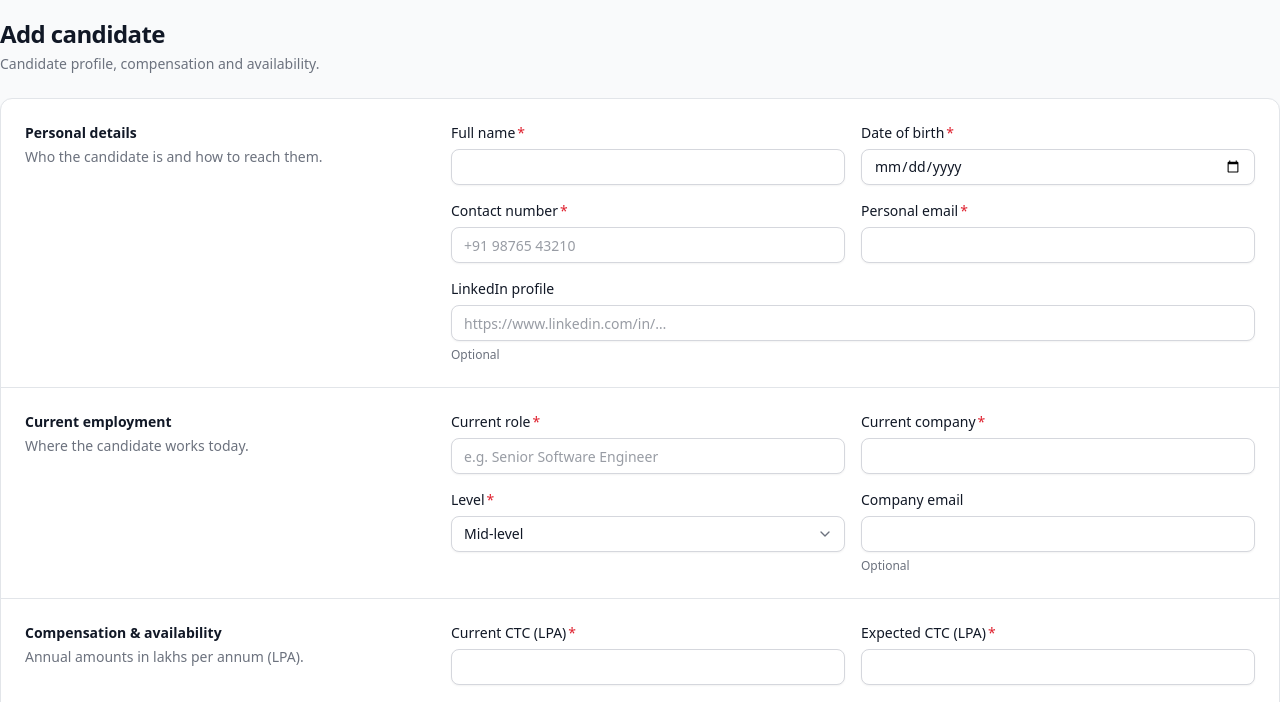
Test: CandidateFormPage › validates required fields and the LinkedIn URL
Type "https://example.com/me" into the field labelled "LinkedIn profile" at (853, 323), box [451, 305, 1255, 341]
(page scrolled)
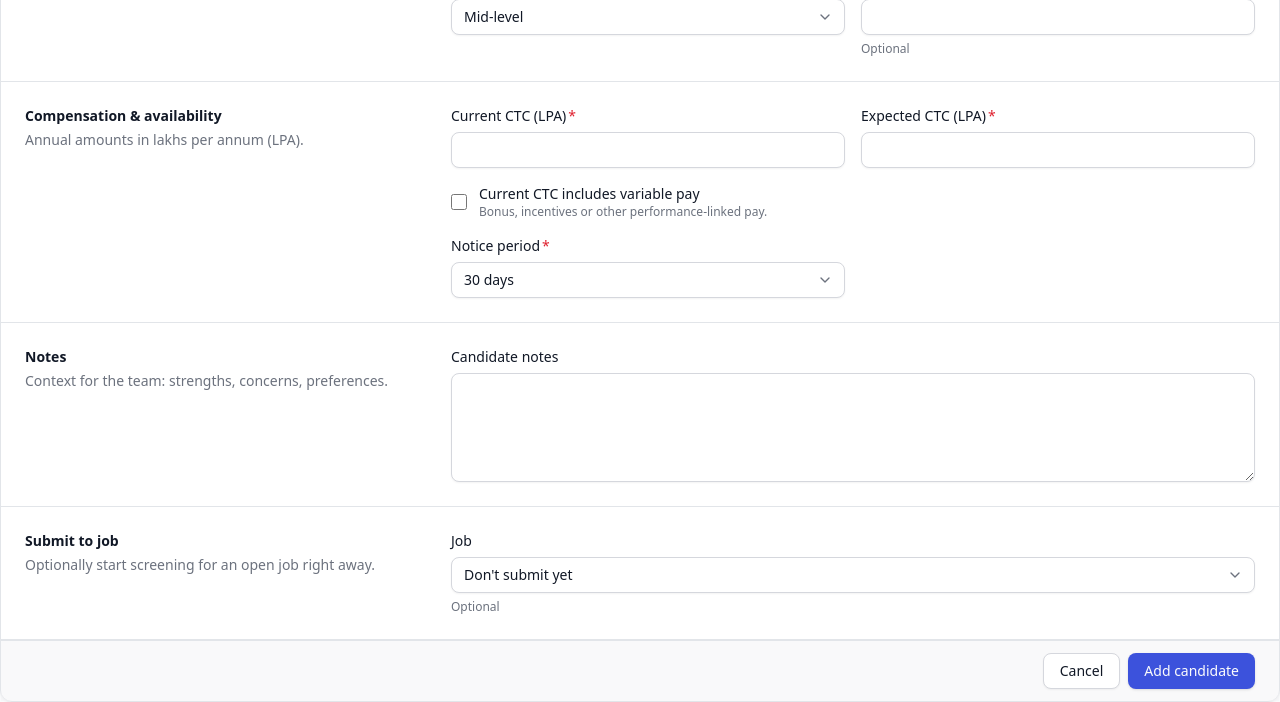
Click the button "Add candidate" at (1192, 671), box [1128, 653, 1255, 689]
(page scrolled)
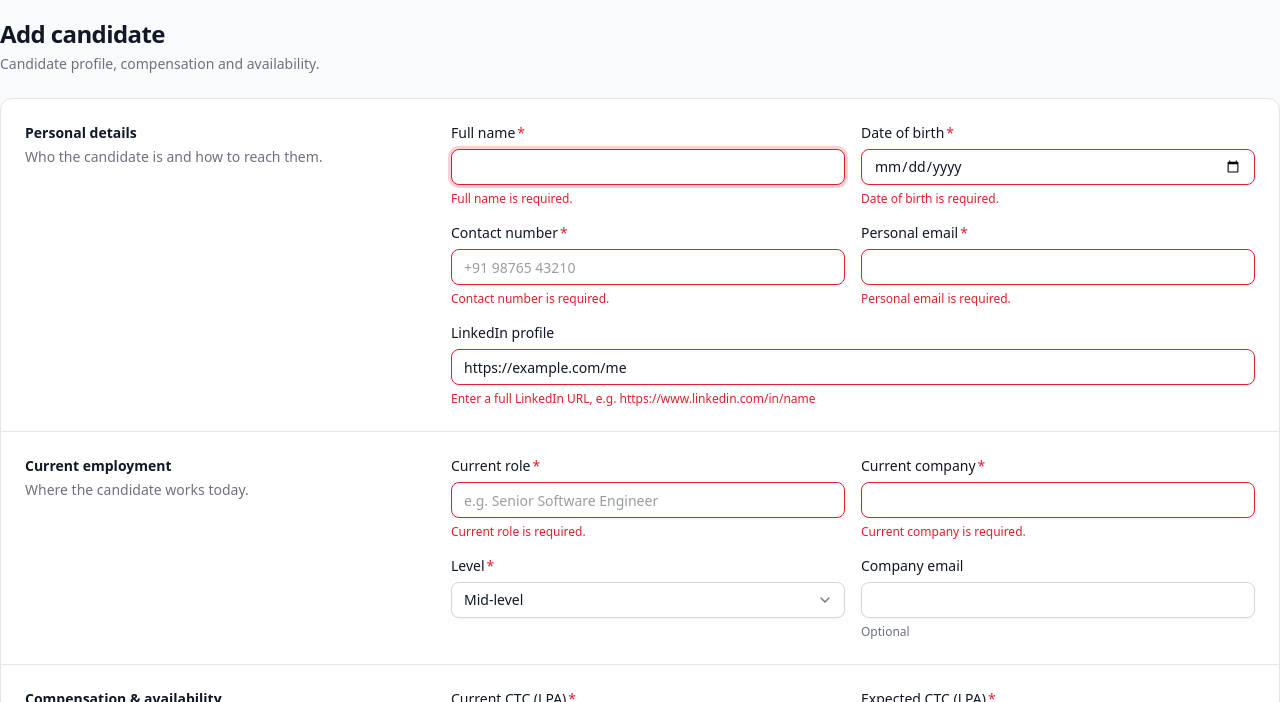
Check: the text "Full name is required." is shown, box [451, 190, 573, 207]
Check: the text "Contact number is required." is shown, box [451, 290, 609, 307]
Check: the text "Enter a full LinkedIn URL" is shown, box [451, 390, 816, 407]
